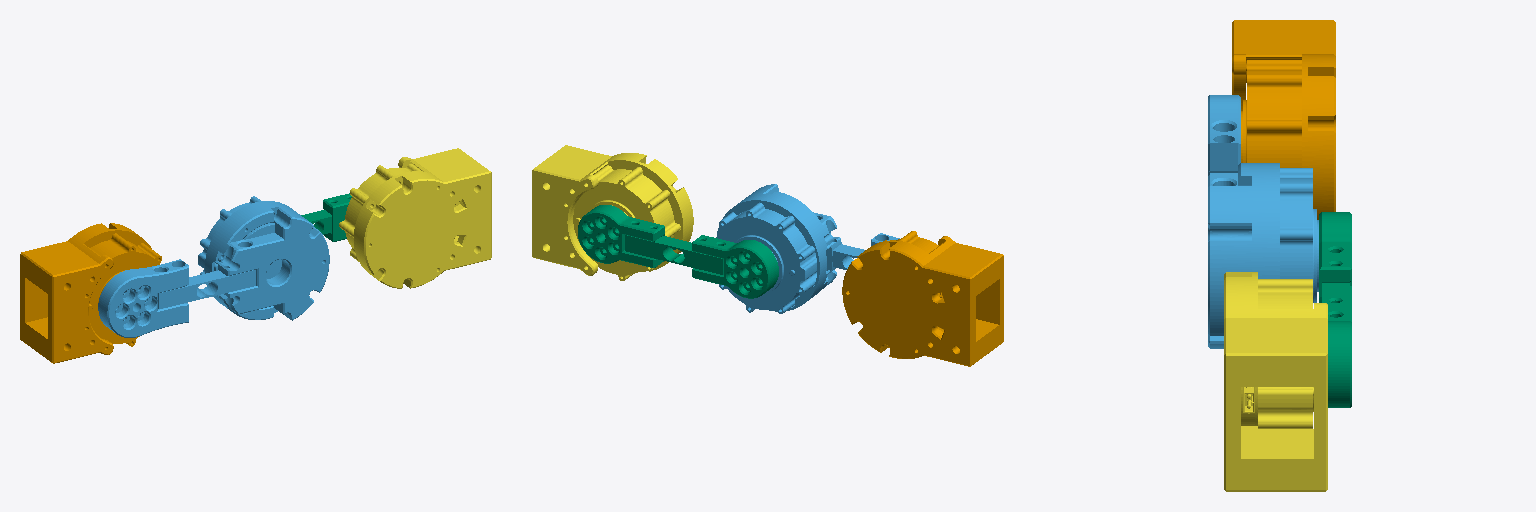
URDF robot description (spine):
<?xml version="1.0"?>
<robot name="spine">

  <!-- Link: hind_spine (base link) -->
  <link name="hind_body">
    <inertial>
      <origin xyz="0 0 0" rpy="0 0 0"/>
      <mass value="0.377"/>
      <inertia ixx="0.0001832" ixy="0" ixz="0" 
               iyy="0.0003327" iyz="0" 
               izz="0.0002337"/>
    </inertial>
    <visual>
      <origin xyz="0 0 0" rpy="0 0 0"/>
      <geometry>
        <mesh filename="meshes/hind_spine.stl" scale="0.001 0.001 0.001"/>
      </geometry>
    </visual>
    <!-- <collision>
      <origin xyz="0 0 0" rpy="0 0 0"/>
      <geometry>
        <mesh filename="meshes/hind_spine.stl" scale="0.001 0.001 0.001"/>
      </geometry>
    </collision> -->
  </link>

  <joint name="joint_hind_body" type="revolute">
    <parent link="hind_body"/>
    <child link="hind_spine"/>
    <origin xyz="0.00454 -0.017638872 0" rpy="0 0 0"/>
    <axis xyz="0 1 0"/>
    <limit lower="-10" upper="10" effort="12" velocity="100"/>
    <dynamics damping="0.0" friction="0.0"/>
  </joint>

  <!-- Link: hind_spine -->
  <link name="hind_spine">
    <inertial>
      <origin xyz="0.109455866 0.014797864 0" rpy="0 0 0"/>
      <mass value="0.399"/>
      <inertia ixx="0.0001953" ixy="0" ixz="0" 
               iyy="0.0005357" iyz="0" 
               izz="0.0004759"/>
    </inertial>
    <visual>
      <origin xyz="0 0 0" rpy="0 0 0"/>
      <geometry>
        <mesh filename="meshes/hind_mid_spine.stl" scale="0.001 0.001 0.001"/>
      </geometry>
    </visual>
    <!-- <collision>
      <origin xyz="0 0 0" rpy="0 0 0"/>
      <geometry>
        <mesh filename="meshes/hind_mid_spine.stl" scale="0.001 0.001 0.001"/>
      </geometry>
    </collision> -->
  </link>

  <joint name="joint_hind_spine" type="revolute">
    <parent link="hind_spine"/>
    <child link="front_spine"/>
    <origin xyz="0.1175 0.036 0" rpy="0 0 0"/>
    <axis xyz="0 1 0"/>
    <limit lower="-10" upper="10" effort="12" velocity="100"/>
    <dynamics damping="0.0" friction="0.0"/>
  </joint>

  <!-- Link: front_spine -->
  <link name="front_spine">
    <inertial>
      <origin xyz="0.05875 0.0073 0" rpy="0 0 0"/>
      <mass value="0.052"/>
      <inertia ixx="0.00001" ixy="0" ixz="0" 
               iyy="0.000084358" iyz="0" 
               izz="0.000082313"/>
    </inertial>
    <visual>
      <origin xyz="0 0 0" rpy="0 0 0"/>
      <geometry>
        <mesh filename="meshes/front_mid_spine.stl" scale="0.001 0.001 0.001"/>
      </geometry>
    </visual>
    <!-- <collision>
      <origin xyz="0 0 0" rpy="0 0 0"/>
      <geometry>
        <mesh filename="meshes/front_mid_spine.stl" scale="0.001 0.001 0.001"/>
      </geometry>
    </collision> -->
  </link>

  <joint name="joint_front_spine" type="revolute">
    <parent link="front_spine"/>
    <child link="front_body"/>
    <origin xyz="0.1175 0 0" rpy="0 0 0"/>
    <axis xyz="0 1 0"/>
    <limit lower="-10" upper="10" effort="12" velocity="100"/>
    <dynamics damping="0.0" friction="0.0"/>
  </joint>

  <!-- Link: front_body -->
  <link name="front_body">
    <inertial>
      <origin xyz="0.00454141 -0.017638872 0" rpy="0 0 0"/>
      <mass value="0.377197524"/>
      <inertia ixx="0.0001832" ixy="0" ixz="0" 
               iyy="0.0003327" iyz="0" 
               izz="0.0002337"/>
    </inertial>
    <visual>
      <origin xyz="0 0 0" rpy="0 0 0"/>
      <geometry>
        <mesh filename="meshes/front_spine.stl" scale="0.001 0.001 0.001"/>
      </geometry>
    </visual>
    <!-- <collision>
      <origin xyz="0 0 0" rpy="0 0 0"/>
      <geometry>
        <mesh filename="meshes/front_spine.stl" scale="0.001 0.001 0.001"/>
      </geometry>
    </collision> -->
  </link>
</robot>

--- Render facts (derived) ---
3 views of the same robot in one strip: view 1: azimuth 30°, elevation 25°; view 2: azimuth 150°, elevation 25°; view 3: azimuth 270°, elevation 25° (orthographic).
Robot: spine — 4 links, 3 joints (3 revolute); root link hind_body; default pose: every joint at zero.
Visible links, largest first — view 1: hind_spine, front_body, hind_body, front_spine; view 2: hind_body, front_body, hind_spine, front_spine; view 3: front_body, hind_spine, hind_body, front_spine.
Link boxes in pixels (x1=…): hind_spine: x1=98, y1=196, x2=329, y2=337; front_body: x1=339, y1=148, x2=491, y2=288; hind_body: x1=20, y1=223, x2=161, y2=363; front_spine: x1=301, y1=193, x2=351, y2=241; hind_body: x1=842, y1=231, x2=1003, y2=366; front_body: x1=532, y1=145, x2=693, y2=280; hind_spine: x1=716, y1=184, x2=899, y2=313; front_spine: x1=578, y1=205, x2=778, y2=298; front_body: x1=1224, y1=272, x2=1327, y2=491; hind_spine: x1=1208, y1=95, x2=1318, y2=348; hind_body: x1=1232, y1=20, x2=1335, y2=219; front_spine: x1=1319, y1=212, x2=1351, y2=407.
Size in the robot's own frame: 0.3614 by 0.066 by 0.085 metres.
4 mesh visuals loaded from 4 distinct referenced files (4 binary STL).